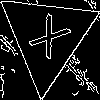X: (22, 12, 72, 69)
